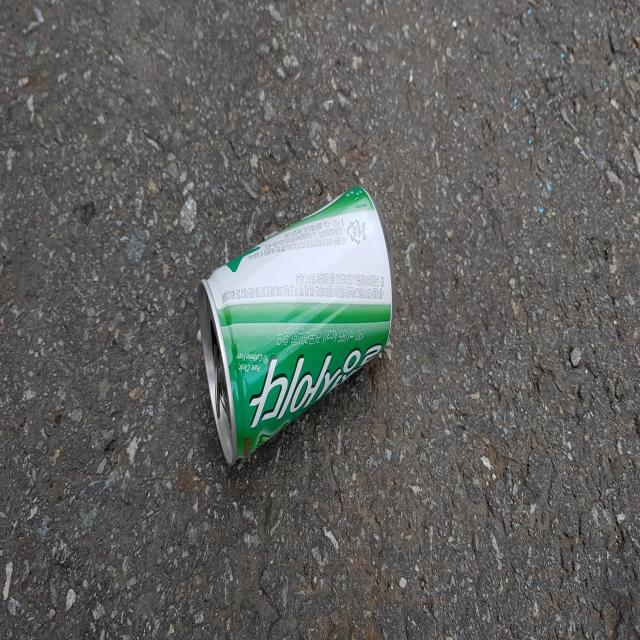can: (198, 184, 395, 465)
